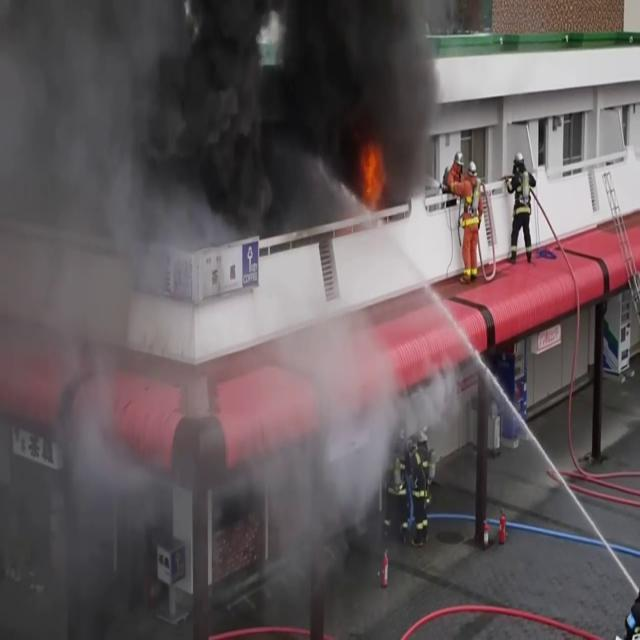Smoke: (2, 0, 447, 224)
